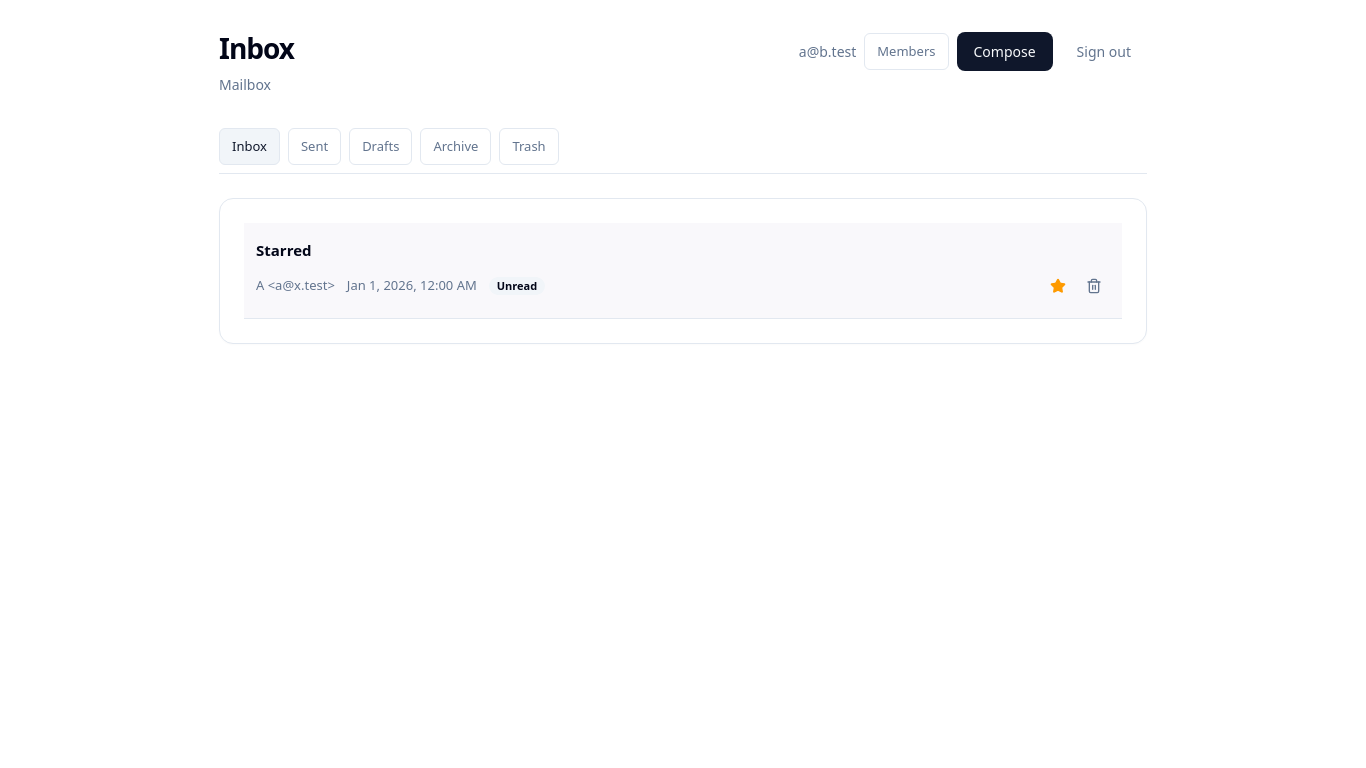
it: InboxListPage — row actions (CAP-043 Slice 3) › a confirmed delete removes the row from the rendered list and surfaces the empty state, without a refetch
The image size is (1366, 768).
Click the button with test id "inbox-delete-button".
click(1094, 286)  # box [1078,270,1110,302]
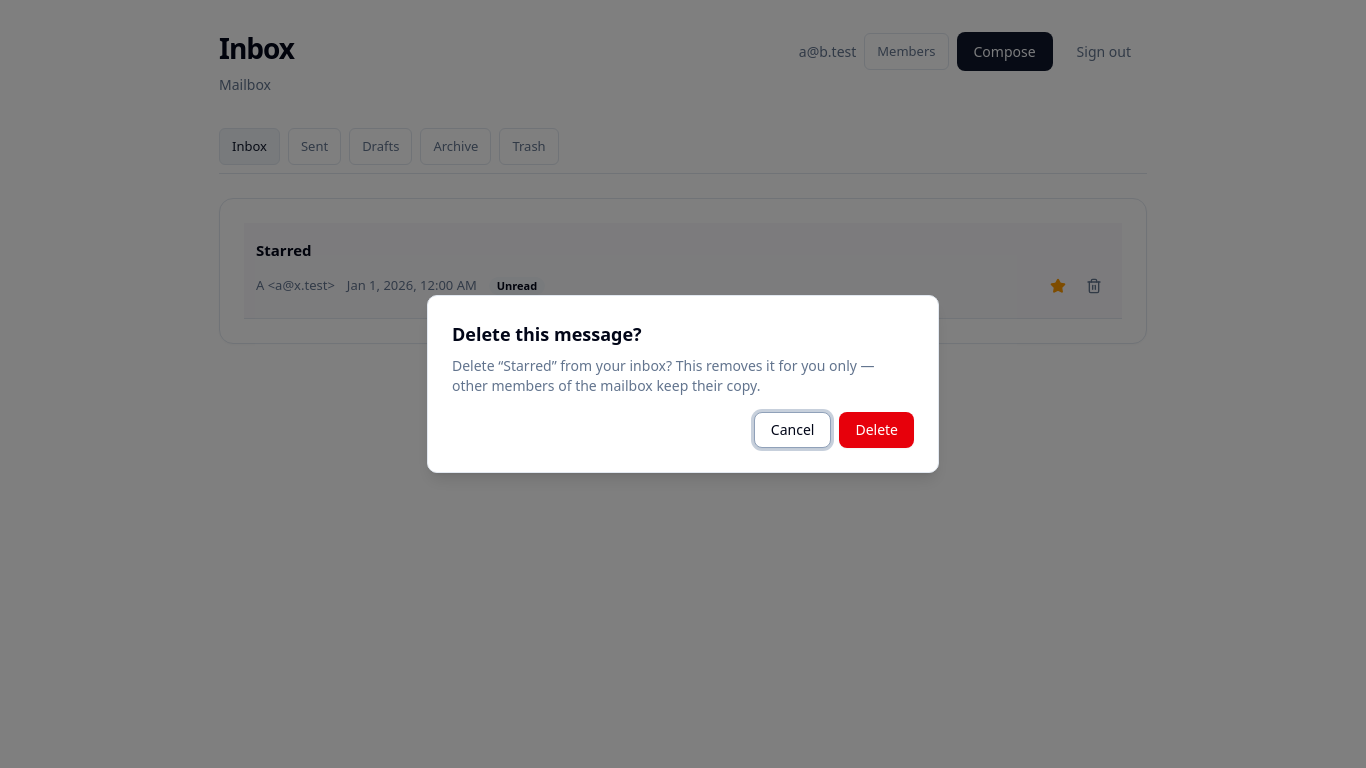
Check: the dialog with test id "alert-dialog" is shown, box [427,295,939,473]
Click the button with test id "alert-dialog-confirm".
click(877, 430)  # box [839,412,914,448]
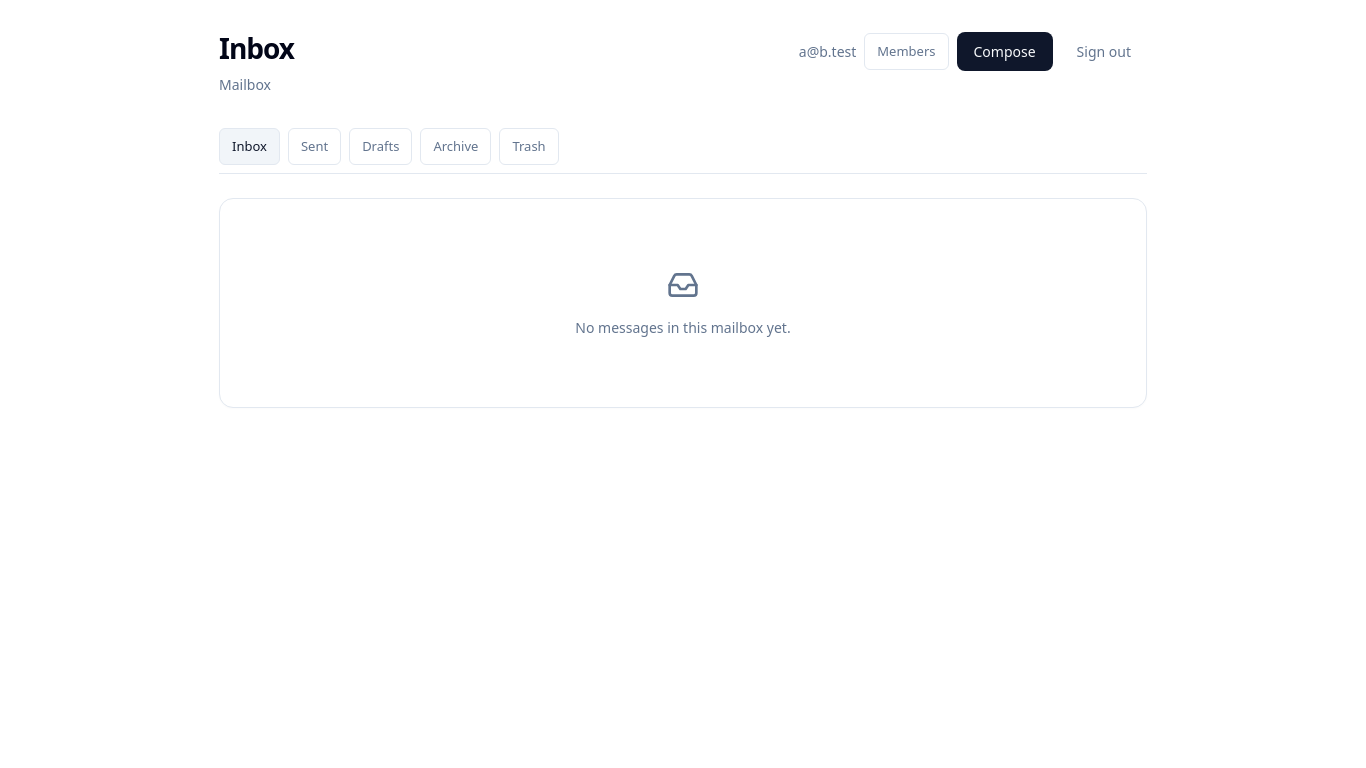
Check: no list items with test id "inbox-list-row" are shown
Check: the text "No messages in this mailbox yet." is shown, box [575,317,791,338]
